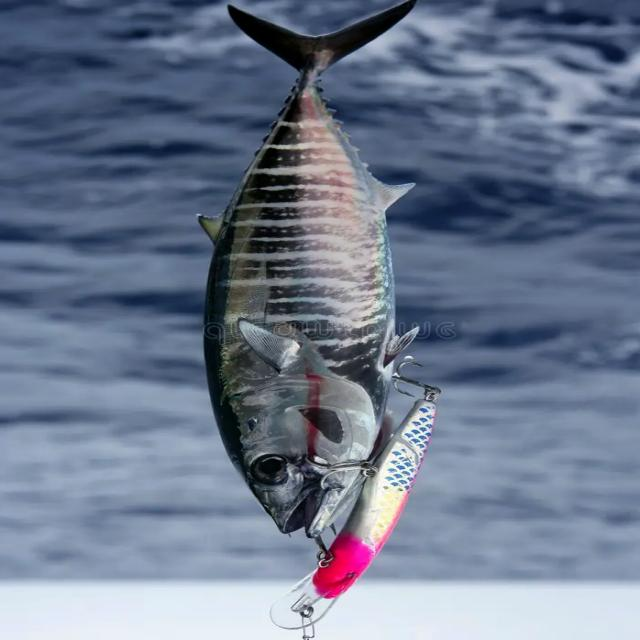Tuna: (197, 0, 423, 539)
